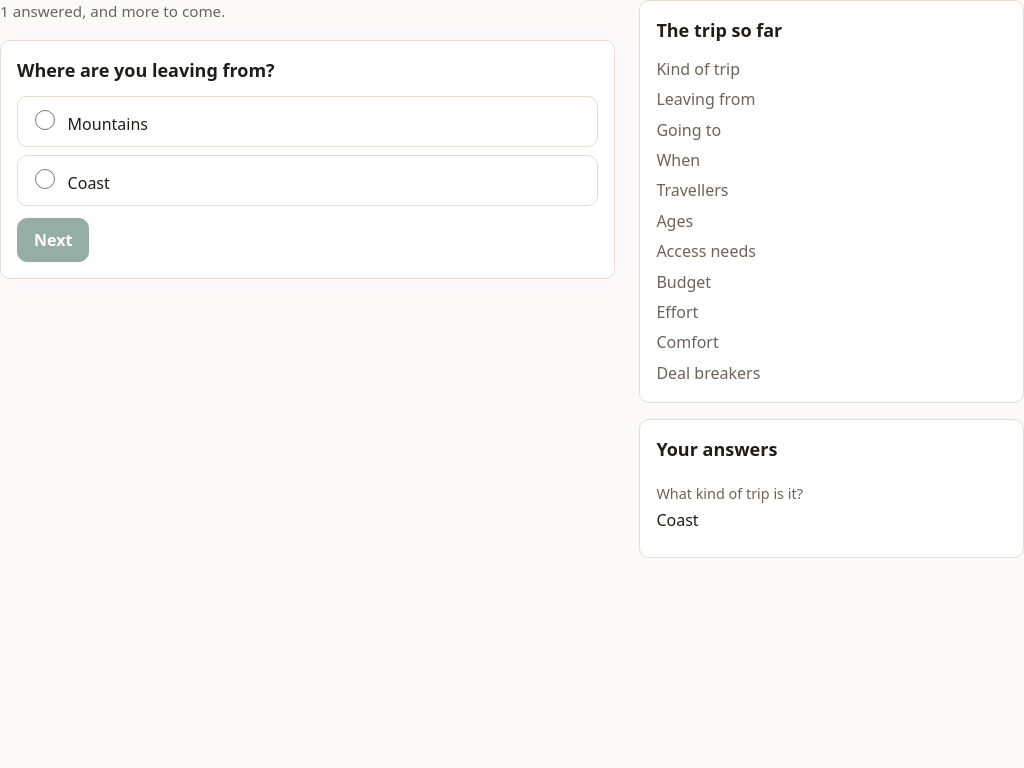
Test: an answer the tree no longer has is named as an answer, not as an id
Expected: the heading "Where are you leaving from?" is shown, [17,58,275,82]
Click the radio button labelled "Mountains" at (45, 120), box [35,110,55,130]
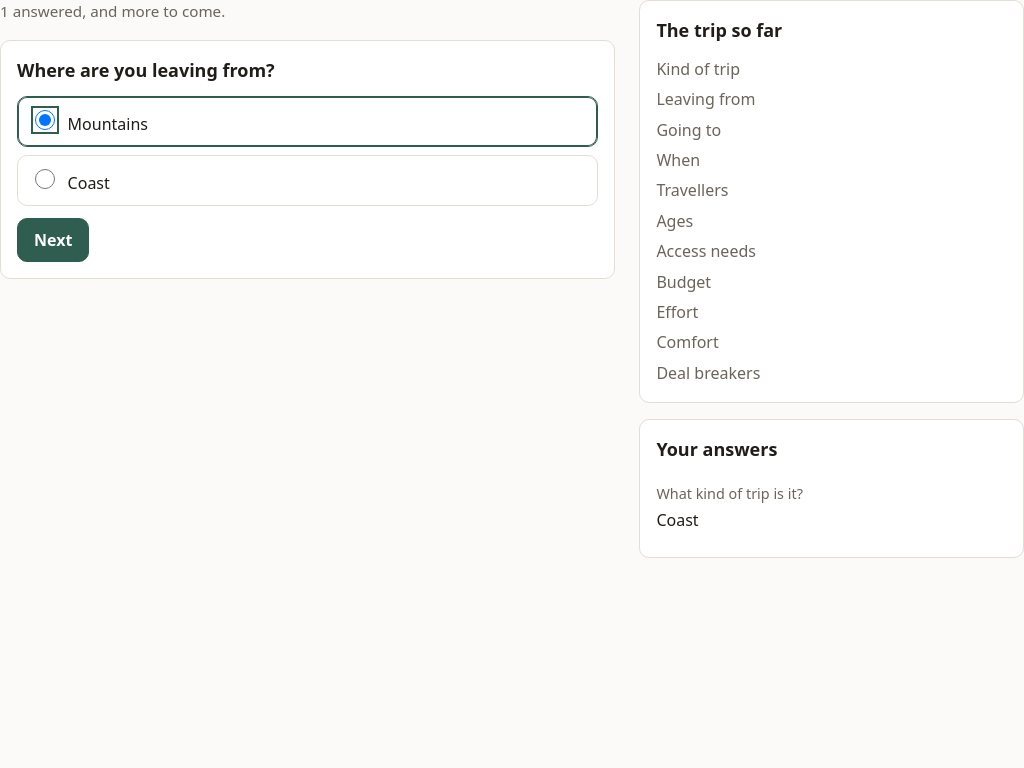
Click the button "Next" at (53, 240), box [17,218,89,262]
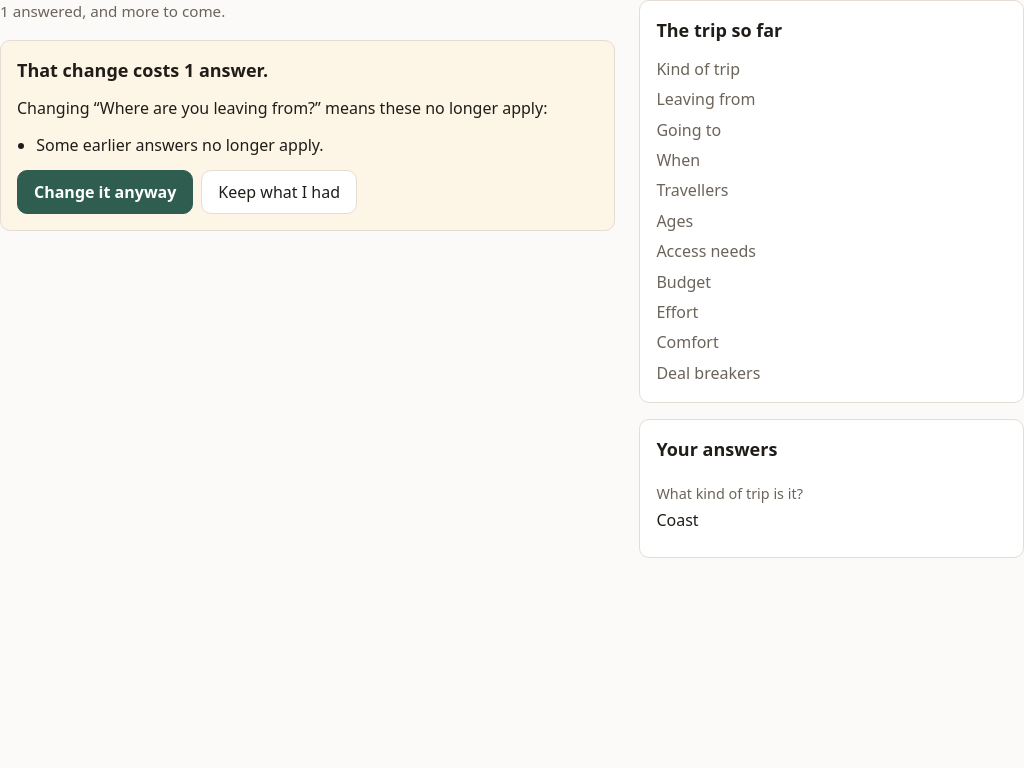
Expected: the dialog shows "That change costs 1 answer.", [0,40,615,231]
Expected: the list item "Some earlier answers no longer apply." is shown, [36,134,324,156]
